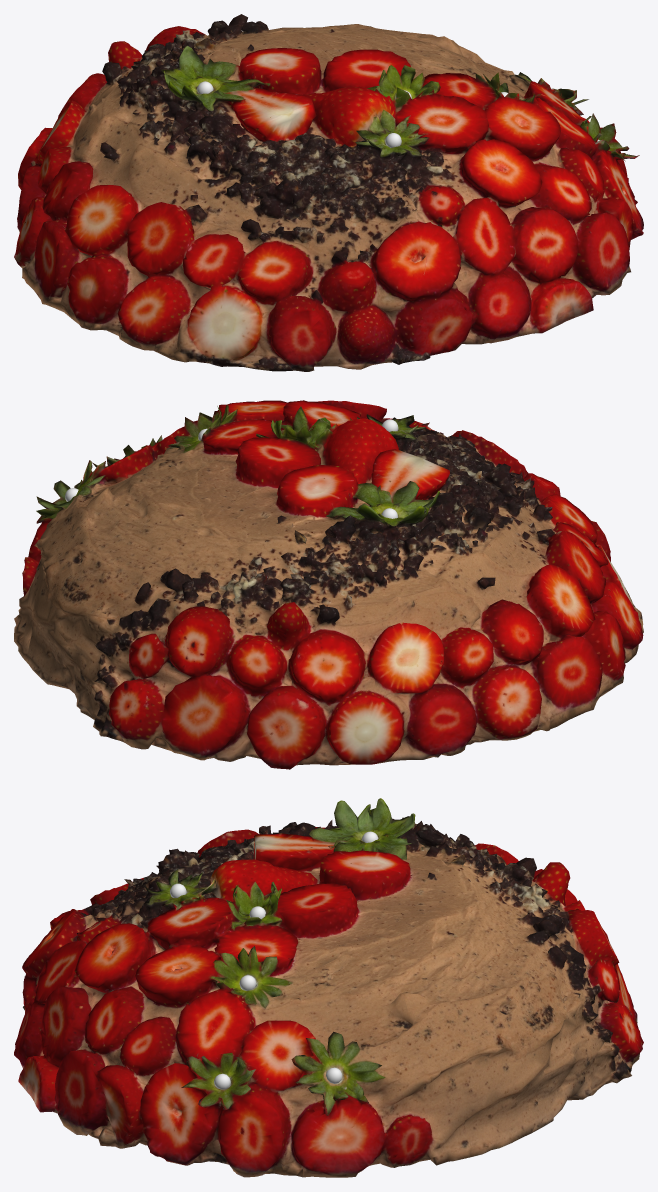
The model's file is cake-v3-4k.gltf.
3 renders of one model, top to bottom at view 1: azimuth 30°, elevation 25°; view 2: azimuth 150°, elevation 25°; view 3: azimuth 270°, elevation 25°, orthographic. The views are drawn at different scales.
Parts seen in each view (by area): view 1: strawberry_chocolate_cake; view 2: strawberry_chocolate_cake; view 3: strawberry_chocolate_cake.
Part boxes in pixels (x1,y1,x2,y2): strawberry_chocolate_cake: (14, 14, 643, 371); strawberry_chocolate_cake: (14, 400, 643, 769); strawberry_chocolate_cake: (14, 798, 643, 1177).
Size of the model in its own units: 0.2443 by 0.0792 by 0.2403.
Materials: 1 (1 with a texture image).
